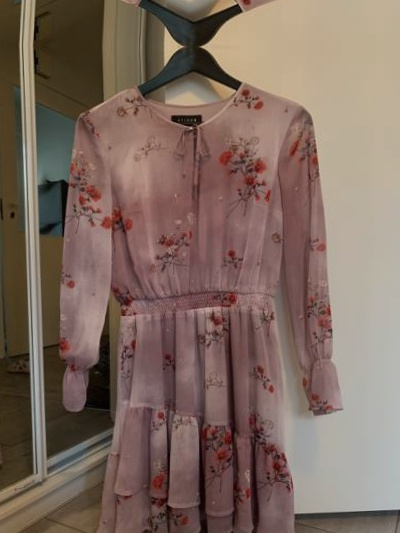Dress: (21, 74, 358, 533), (26, 0, 364, 18)
